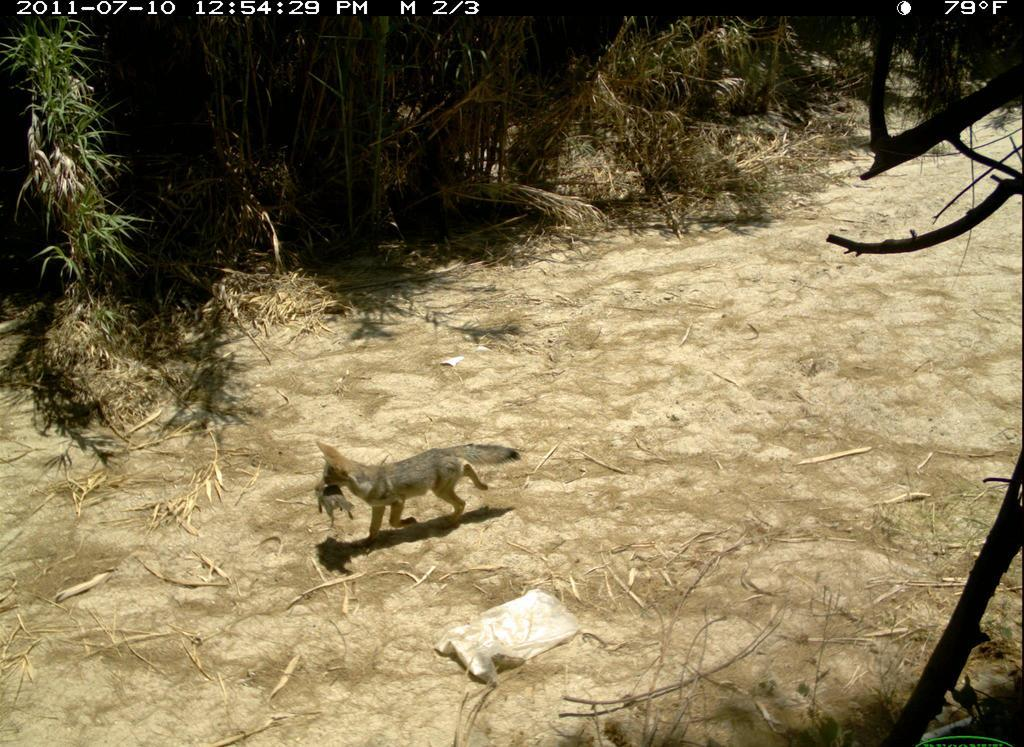coyote: (308, 432, 524, 562)
